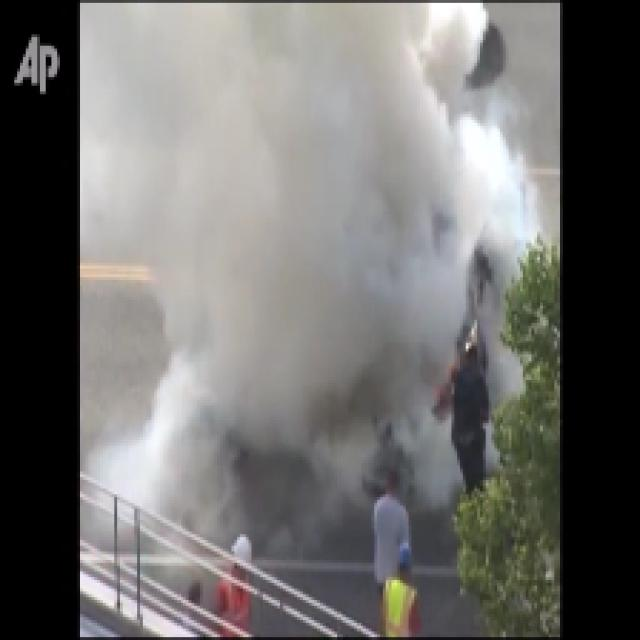smoke: (90, 4, 494, 474)
